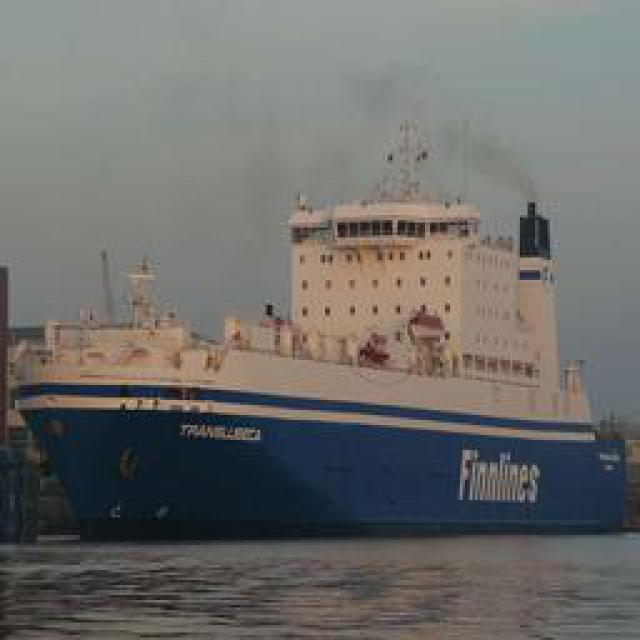Ship: (15, 258, 628, 543)
